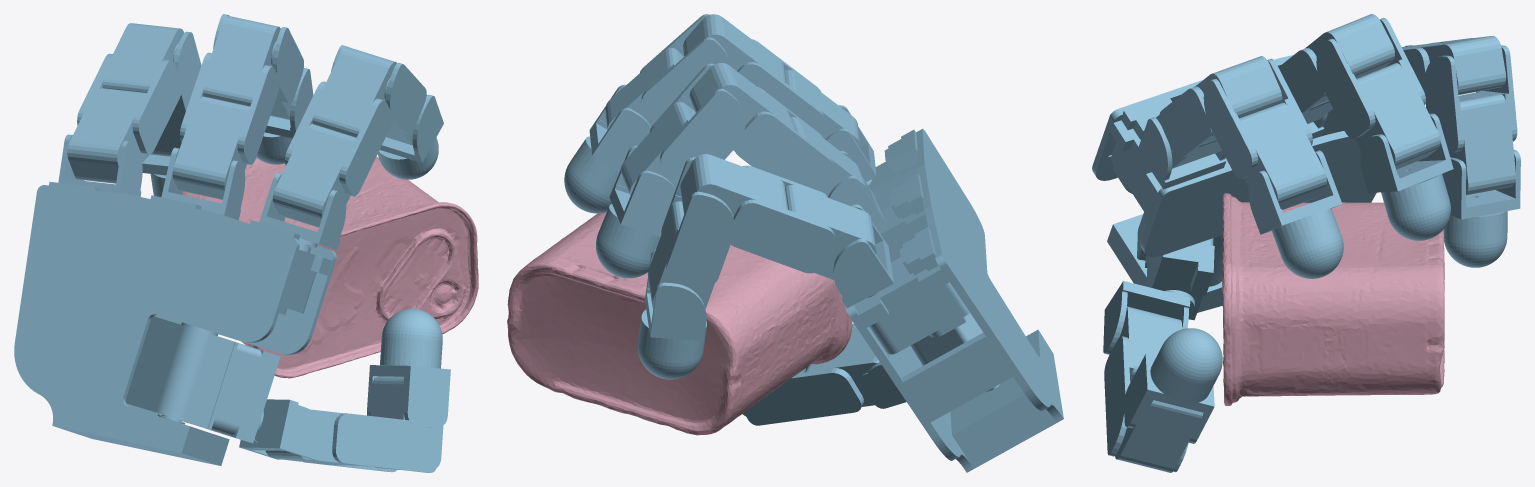
3 views of the same model, side by side, from view 1: azimuth 30°, elevation 25°; view 2: azimuth 150°, elevation 25°; view 3: azimuth 270°, elevation 25° (orthographic). The views are drawn at different scales.
Visible parts, largest first — view 1: world; view 2: world; view 3: world.
Part boxes in pixels (left/top/right/bottom): world: left=14, top=14, right=478, bottom=472; world: left=507, top=14, right=1063, bottom=472; world: left=1092, top=14, right=1520, bottom=472.
Size of the model in its own units: 0.1949 by 0.1741 by 0.1608.
